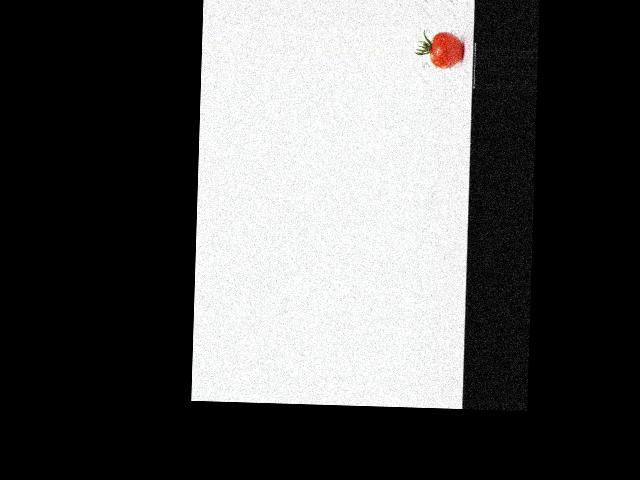tomato: (430, 31, 463, 68)
